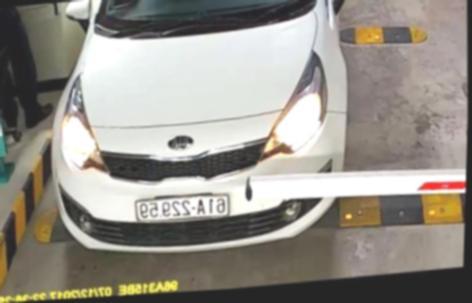License_Plate: (131, 185, 230, 237)
